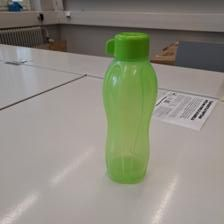bottle: (98, 29, 159, 184)
